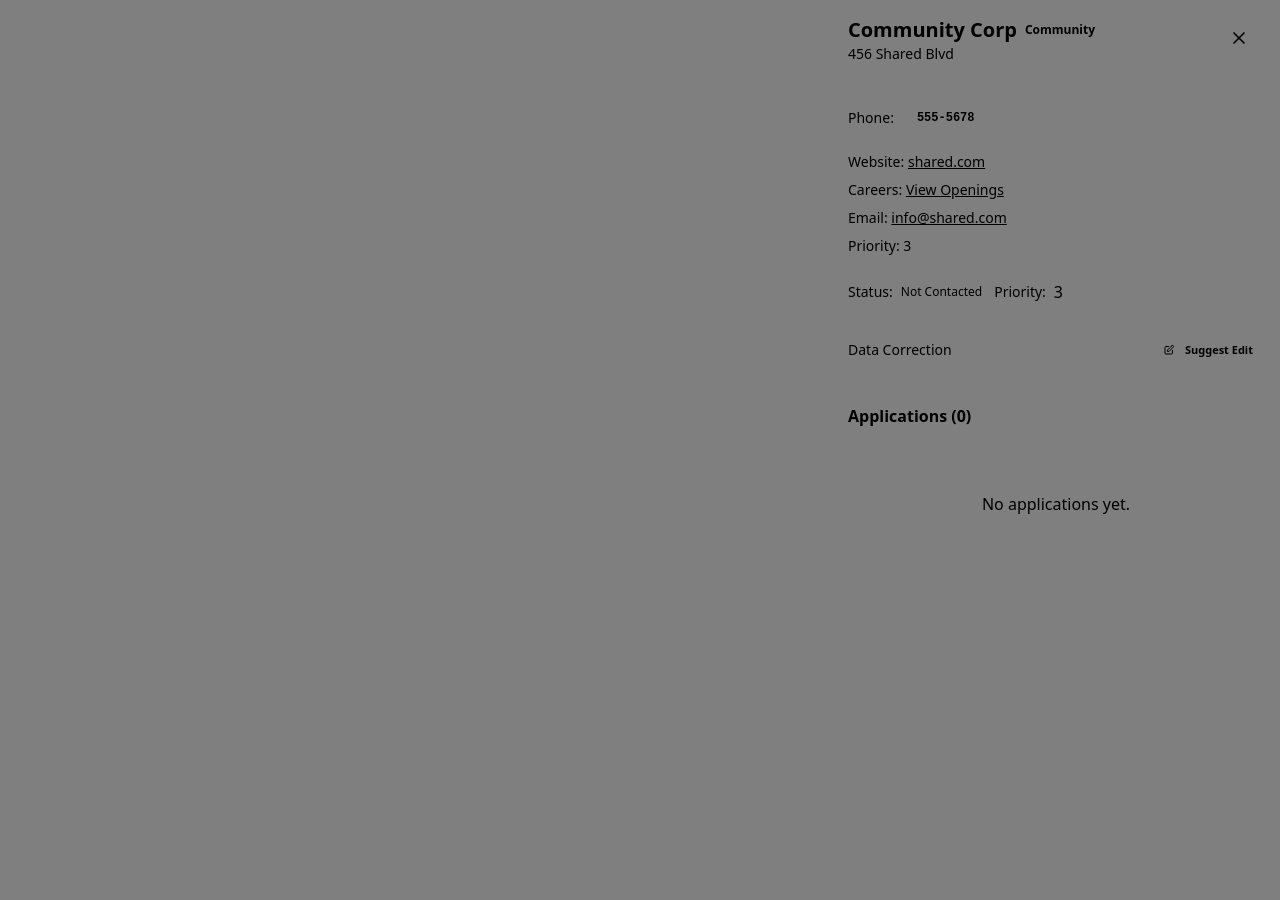
CompanyDetailDrawer - Suggest Edit (US6) › T107: shows edit form when Suggest Edit is clicked
Click the button with test id "suggest-edit-btn".
click(1208, 350)  # box [1152,328,1264,372]
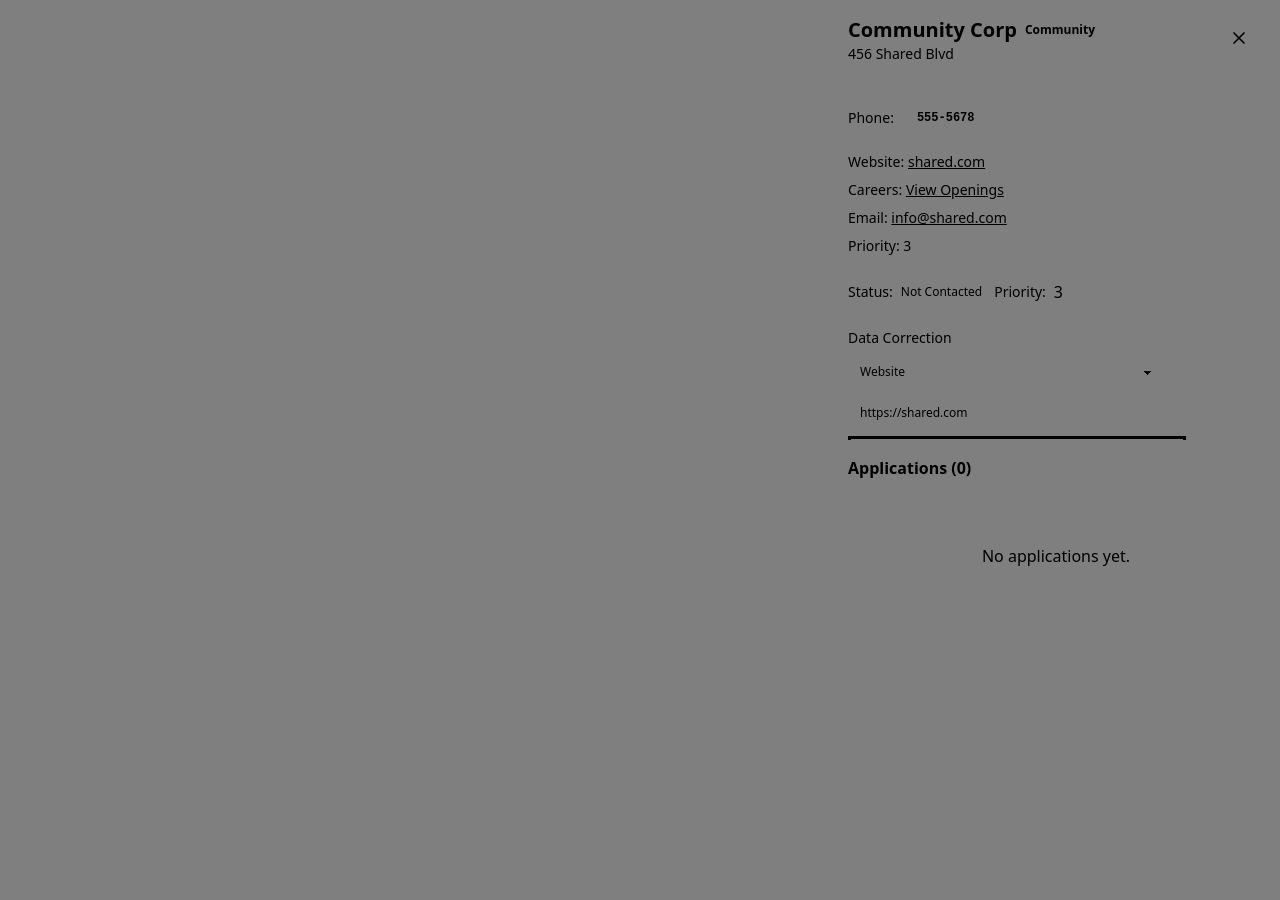
Expected: the element with test id "edit-suggestion-form" is shown, [848,356,1264,440]
Expected: the dropdown with test id "edit-field-select" is shown, [848,356,1168,388]
Expected: the field with test id "edit-value-input" is shown, [848,396,1264,428]
